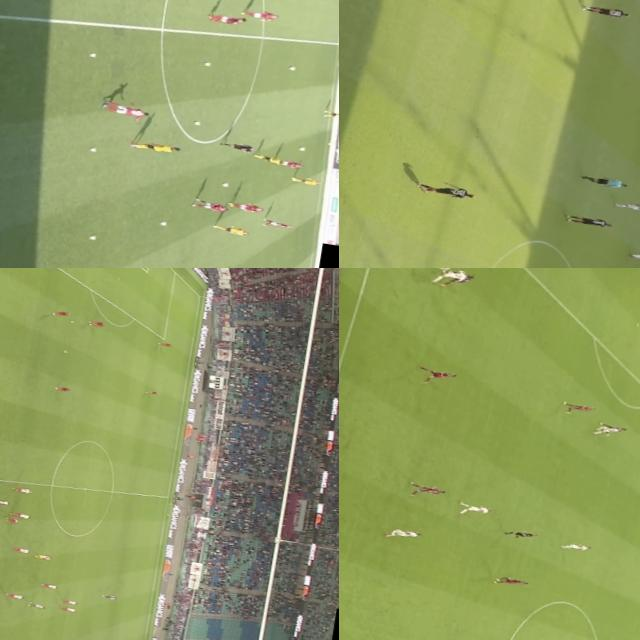ball: (218, 180, 230, 188), (84, 235, 97, 242), (87, 52, 98, 59), (200, 61, 210, 68), (191, 121, 200, 128), (60, 348, 70, 354), (297, 146, 305, 152), (159, 221, 168, 226), (88, 148, 96, 152), (67, 320, 74, 324), (441, 268, 450, 271), (288, 68, 296, 71)
player: (412, 175, 484, 206), (122, 138, 184, 158), (418, 366, 462, 388), (570, 213, 616, 232), (101, 102, 148, 120), (585, 4, 634, 21), (425, 268, 467, 287), (436, 270, 474, 290), (406, 484, 454, 499), (382, 526, 426, 542), (460, 502, 500, 518), (490, 573, 530, 589), (559, 401, 600, 416), (224, 200, 262, 215), (207, 12, 244, 26), (240, 10, 277, 24), (194, 200, 229, 214), (212, 226, 252, 238), (614, 200, 640, 217), (591, 422, 620, 437), (600, 423, 631, 437), (270, 158, 304, 170), (560, 541, 590, 554), (288, 176, 320, 187), (8, 484, 34, 496), (252, 154, 282, 164), (8, 509, 34, 520), (263, 220, 290, 230), (50, 308, 73, 318), (628, 250, 640, 267), (154, 339, 176, 348), (89, 320, 108, 330), (26, 602, 49, 610), (58, 605, 78, 614), (2, 592, 24, 600), (320, 111, 339, 120), (142, 388, 159, 398), (40, 582, 60, 590), (58, 599, 80, 606), (0, 497, 13, 508), (33, 555, 55, 561), (10, 546, 26, 554), (100, 594, 118, 600), (5, 518, 22, 524), (54, 386, 70, 392)
